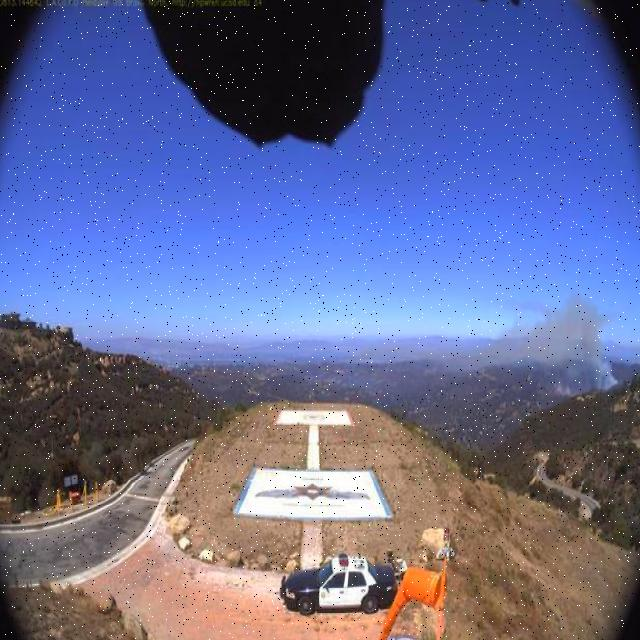smoke: (462, 289, 620, 396)
